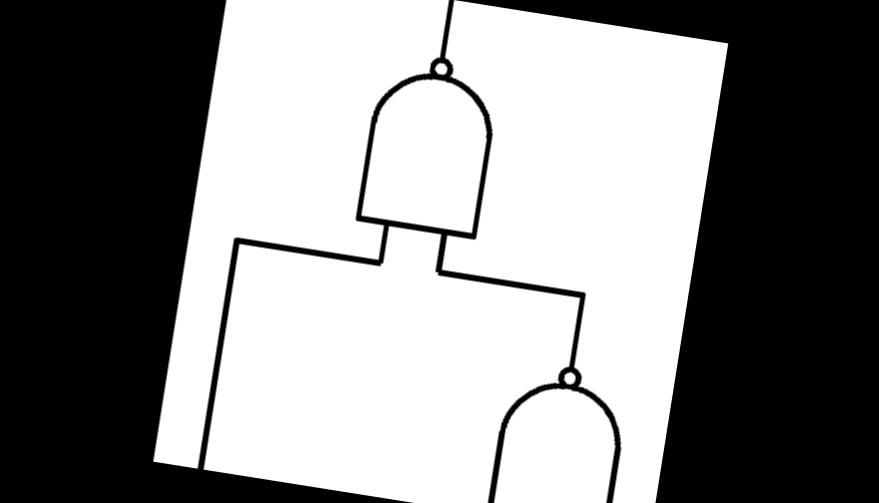nand: (323, 18, 534, 270), (460, 335, 653, 503)
